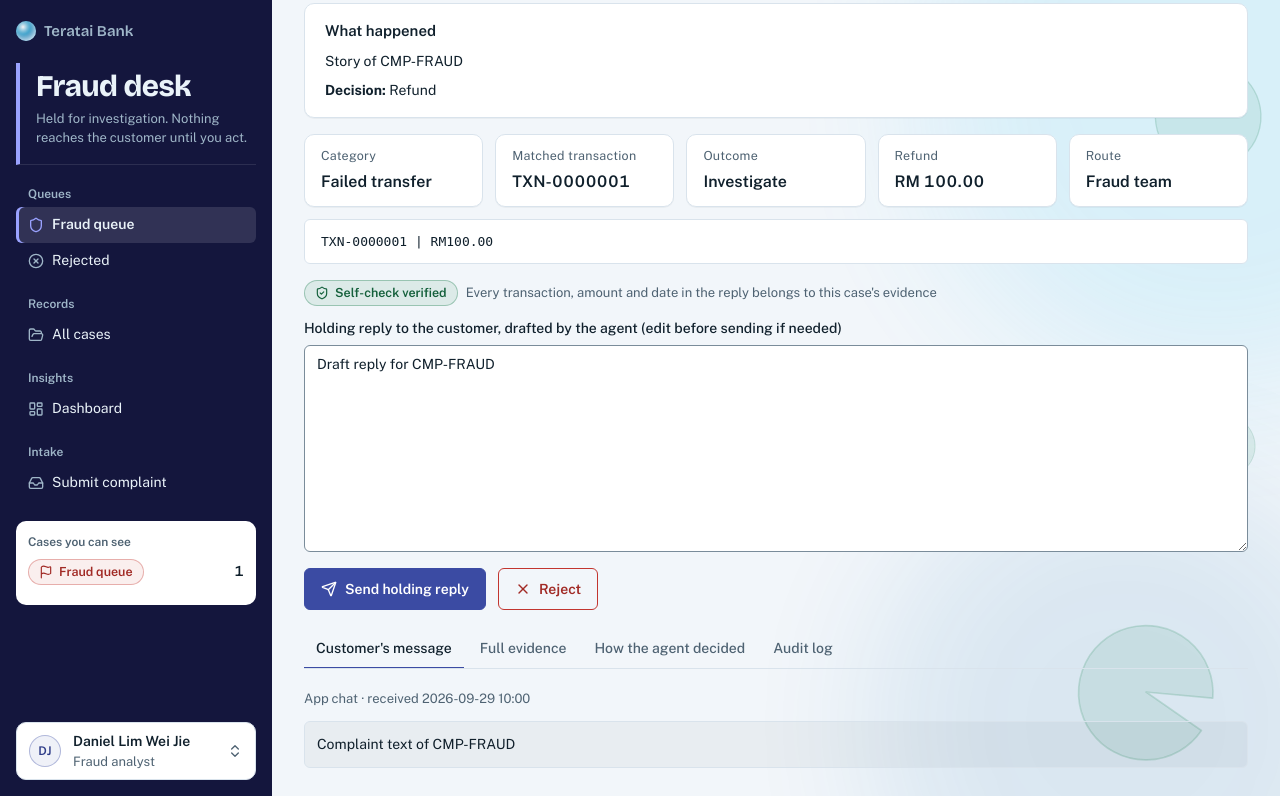
fraud queue › sends the holding reply and keeps the case with the fraud team
(page scrolled)
Click the button "Send holding reply".
click(395, 589)  # box [304,568,486,610]
(page scrolled)
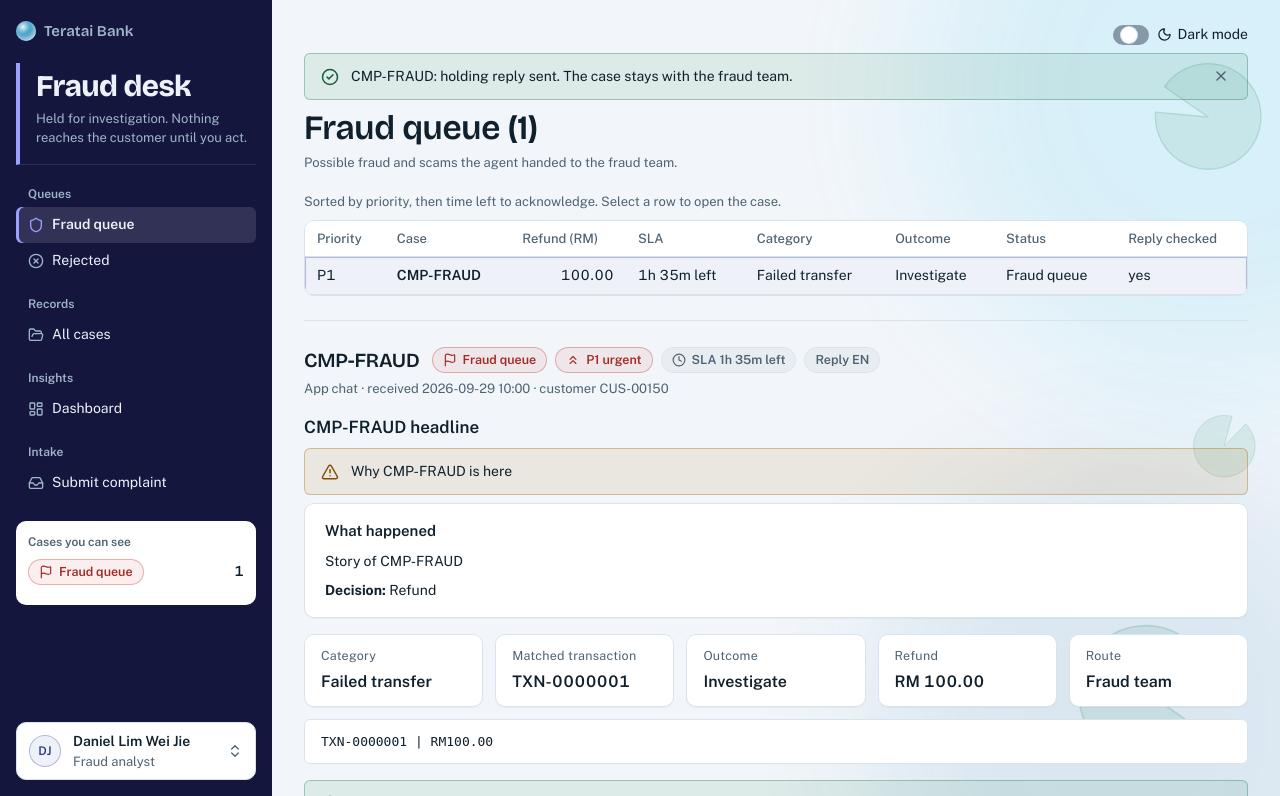
Expected: the heading "Fraud queue (1)" is shown, [304,107,538,148]
Now the text "CMP-FRAUD: holding reply sent. The case stays with the fraud team." is shown, box [351,68,792,84]
